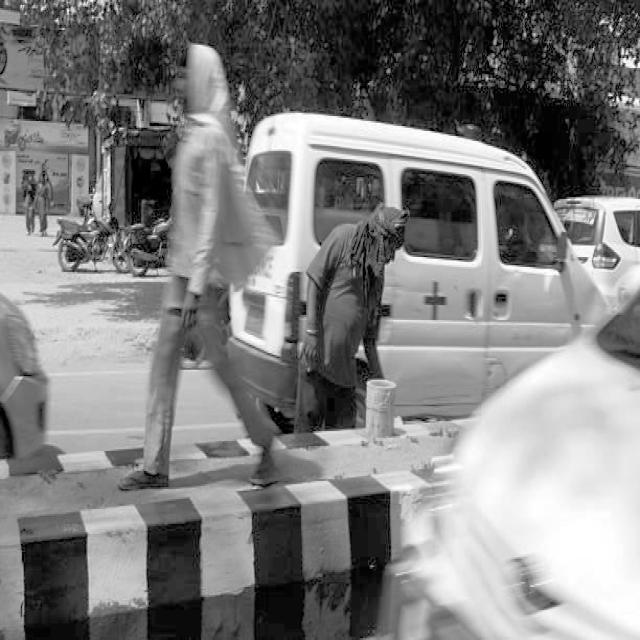Ambulance: (420, 270, 454, 324), (460, 121, 484, 153)
